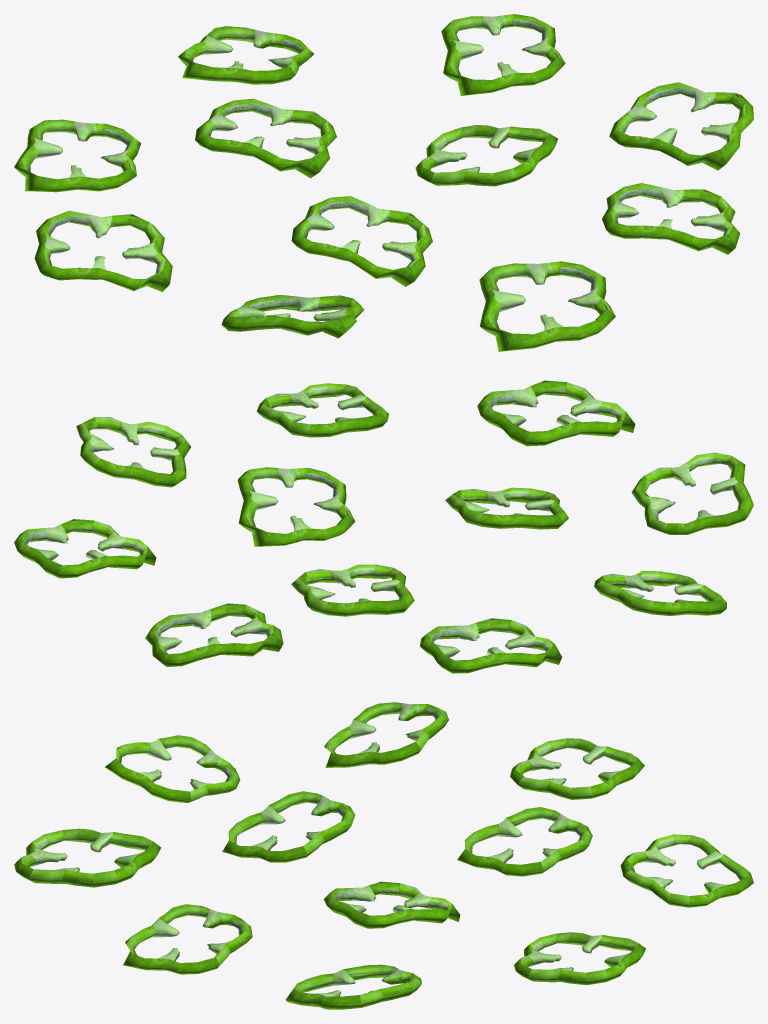
File: green_pepper_topping.fbx
3 views of the same model, one above another, from view 1: azimuth 30°, elevation 25°; view 2: azimuth 150°, elevation 25°; view 3: azimuth 270°, elevation 25° (orthographic). The views are drawn at different scales.
Parts seen in each view (by area): view 1: pepper.002, pepper.001, pepper, pepper.006, pepper.009, pepper.004, pepper.005, pepper.003, pepper.007, pepper.008, pepper.010; view 2: pepper.002, pepper.007, pepper.008, pepper.010, pepper.003, pepper.005, pepper.006, pepper.004, pepper.009, pepper.001, pepper; view 3: pepper.002, pepper.008, pepper.009, pepper, pepper.004, pepper.003, pepper.010, pepper.005, pepper.001, pepper.007, pepper.006.
Part boxes in pixels (bbox=[...]): pepper.002: bbox=[479, 261, 615, 351]; pepper.001: bbox=[34, 210, 172, 291]; pepper: bbox=[291, 196, 432, 286]; pepper.006: bbox=[609, 82, 753, 170]; pepper.009: bbox=[195, 98, 336, 178]; pepper.004: bbox=[602, 183, 740, 254]; pepper.005: bbox=[441, 14, 565, 95]; pepper.003: bbox=[14, 119, 141, 192]; pepper.007: bbox=[415, 125, 557, 186]; pepper.008: bbox=[178, 26, 313, 84]; pepper.010: bbox=[221, 295, 363, 338]; pepper.002: bbox=[477, 380, 635, 446]; pepper.007: bbox=[237, 467, 355, 546]; pepper.008: bbox=[145, 603, 283, 666]; pepper.010: bbox=[631, 452, 753, 534]; pepper.003: bbox=[420, 618, 562, 673]; pepper.005: bbox=[14, 519, 156, 578]; pepper.006: bbox=[76, 417, 190, 487]; pepper.004: bbox=[256, 383, 388, 437]; pepper.009: bbox=[291, 564, 414, 616]; pepper.001: bbox=[594, 571, 726, 615]; pepper: bbox=[445, 487, 568, 529]; pepper.002: bbox=[14, 828, 161, 887]; pepper.008: bbox=[620, 834, 753, 907]; pepper.009: bbox=[457, 807, 592, 876]; pepper: bbox=[222, 791, 355, 862]; pepper.004: bbox=[123, 904, 252, 974]; pepper.003: bbox=[510, 738, 644, 799]; pepper.010: bbox=[105, 735, 240, 803]; pepper.005: bbox=[514, 932, 645, 985]; pepper.001: bbox=[324, 702, 448, 767]; pepper.007: bbox=[323, 881, 460, 928]; pepper.006: bbox=[285, 964, 421, 1009].
Size of the model in its own units: 56.15 by 3.32 by 56.69.
11 materials, 11 textured.
